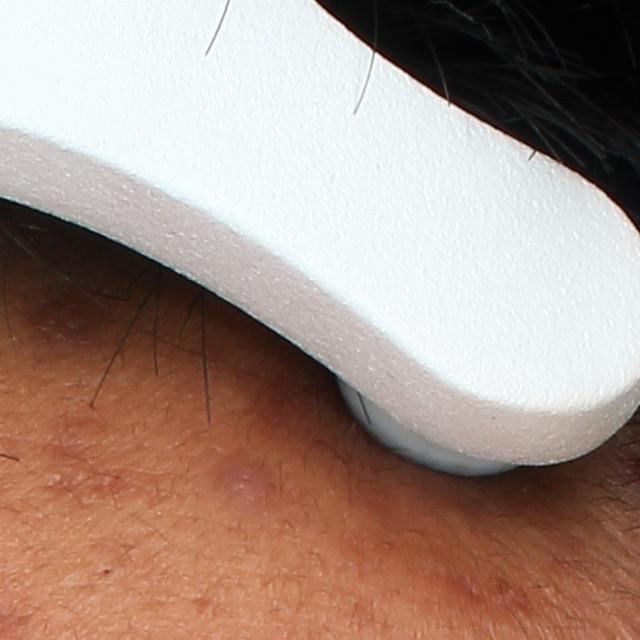comedo: (98, 564, 121, 578)
